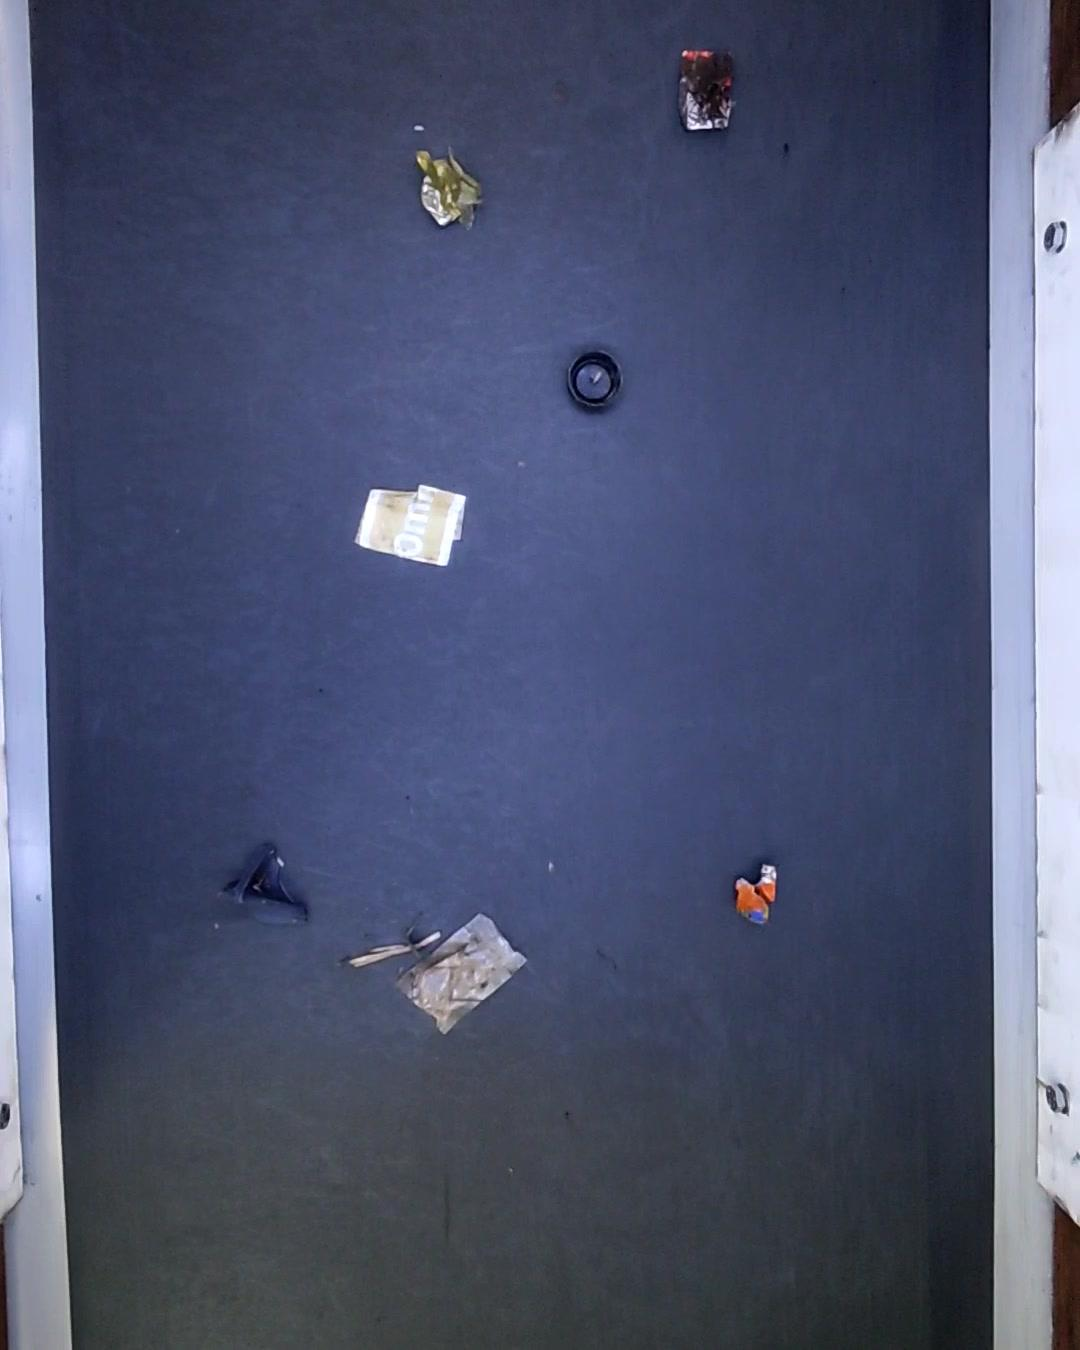Plastic folies of stukken daarvan 2.5- 50 cm: (393, 914, 534, 1033)
